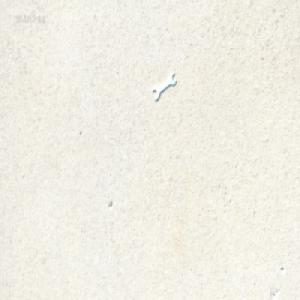Wrench: (152, 71, 176, 101)
